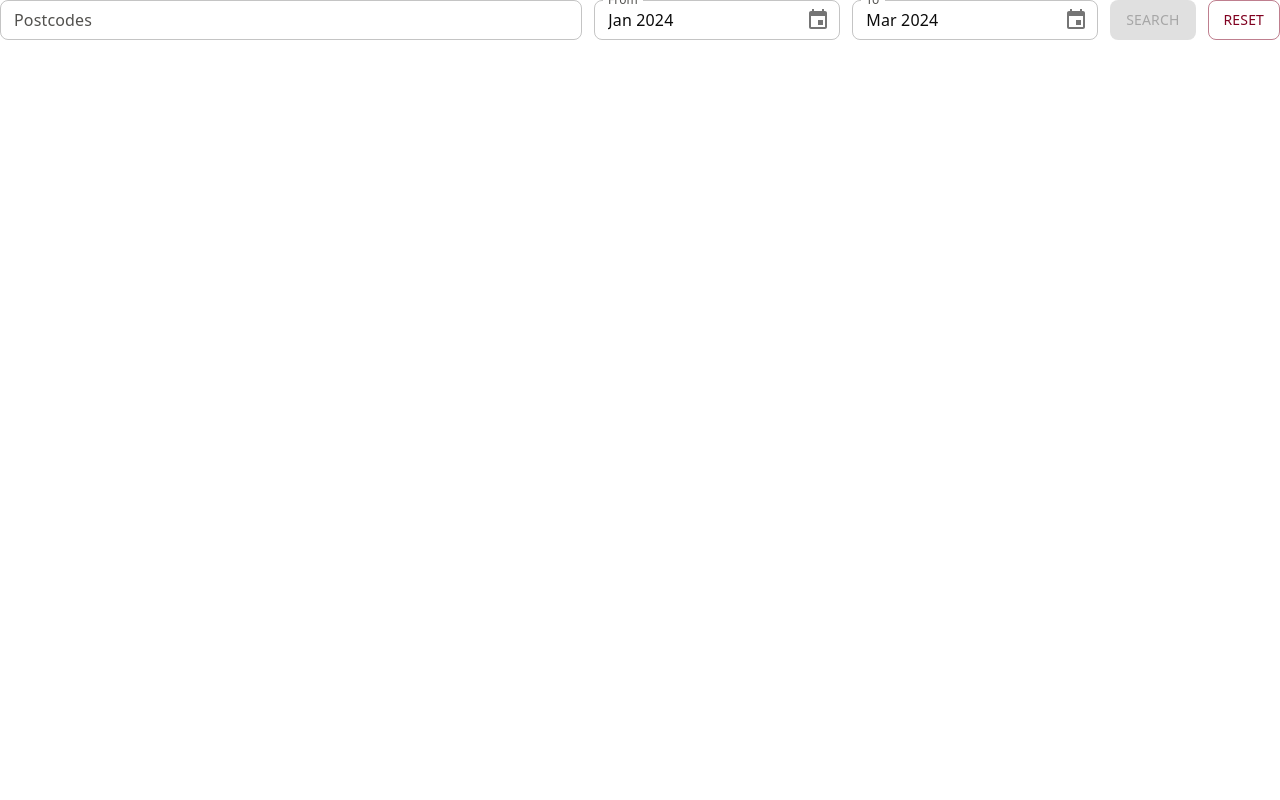
it: SearchBar › moves To forward when From is later than To
The image size is (1280, 800).
Click the button named "Choose date, selected date is Jan 1, 2024" at (818, 20), box [798, 0, 838, 40]
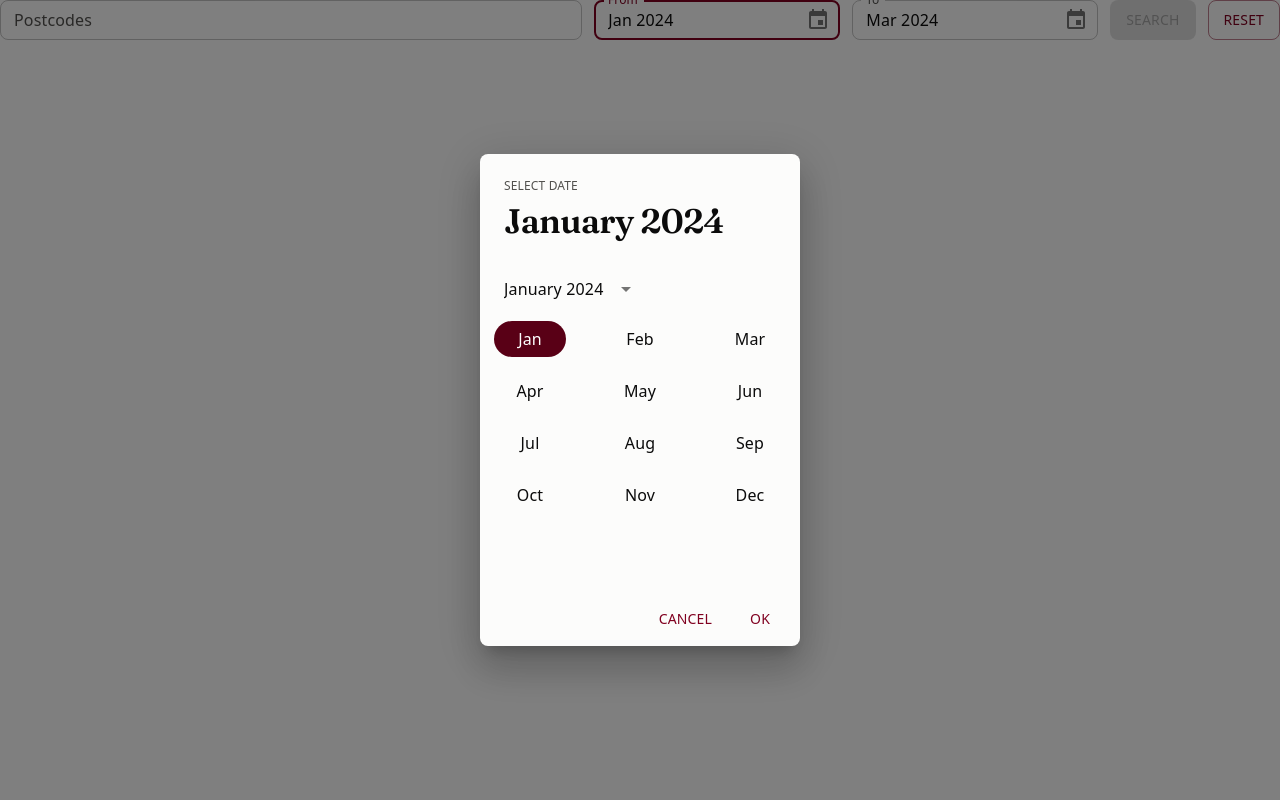
Click the radio button labelled "May" at (640, 391), box [604, 373, 676, 409]
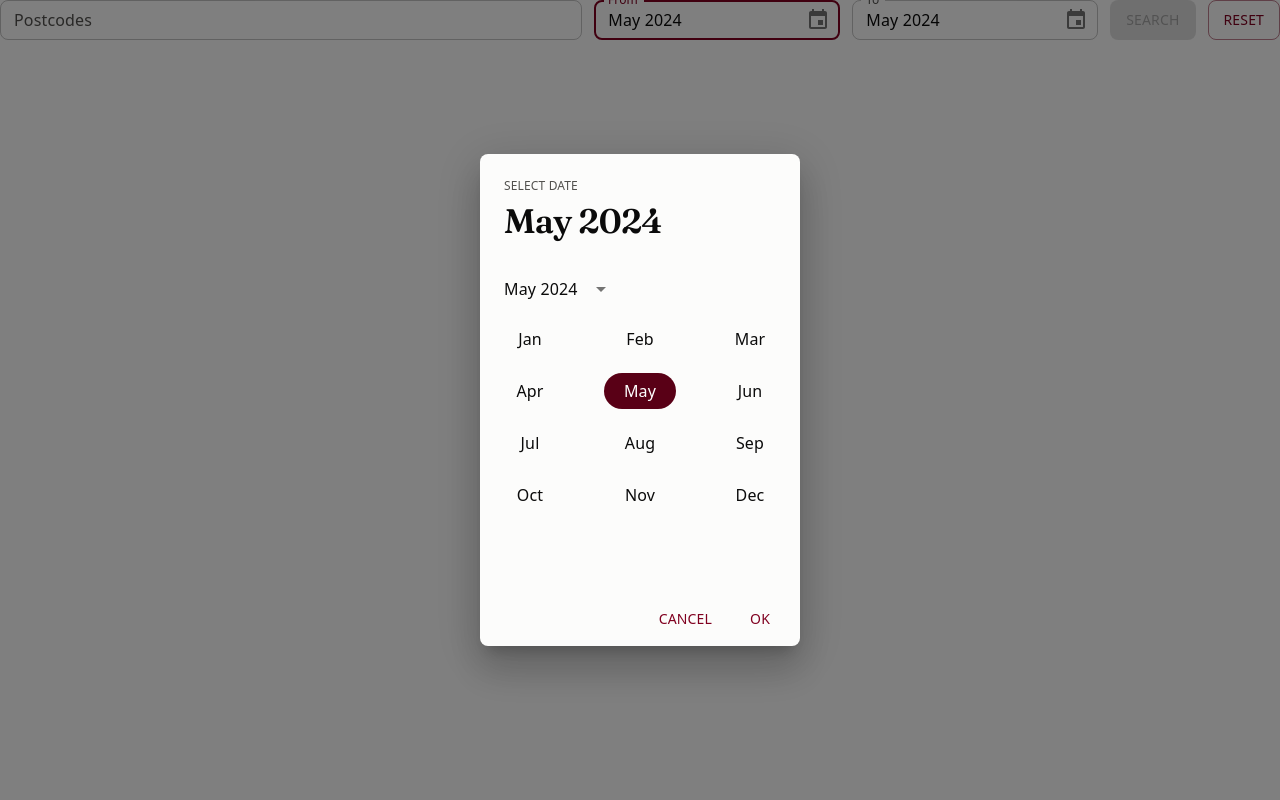
Click the button "OK" at (760, 620), box [728, 601, 792, 638]
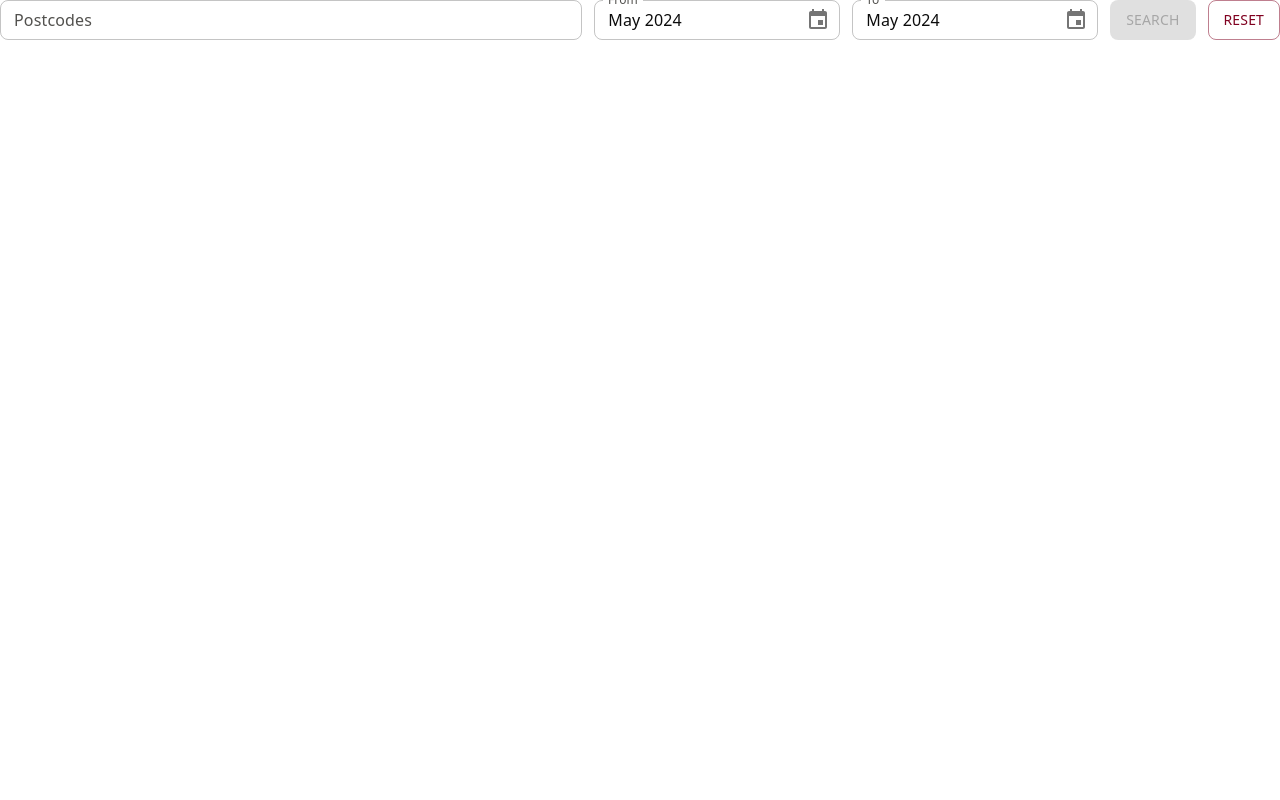
Expected: the number of buttons named "choose date, selected date is May 1, 2024" is 2, [798, 0, 838, 40]; [1056, 0, 1096, 40]
